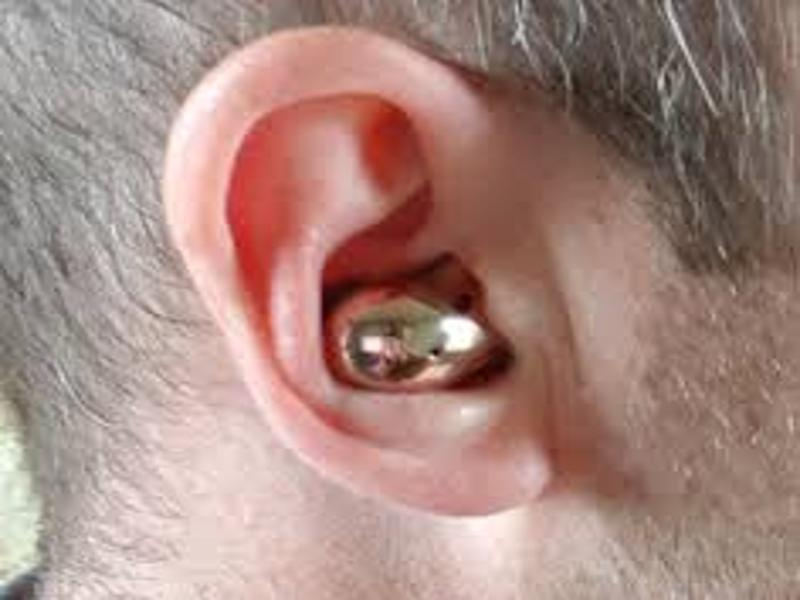headphone: (318, 272, 504, 398)
